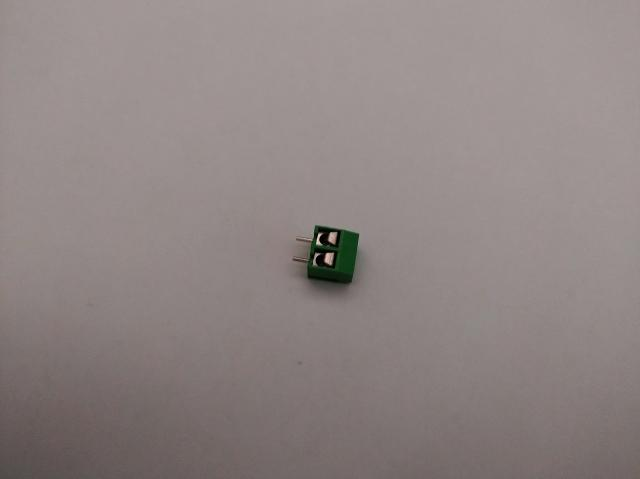terminal_block: (292, 224, 361, 284)
